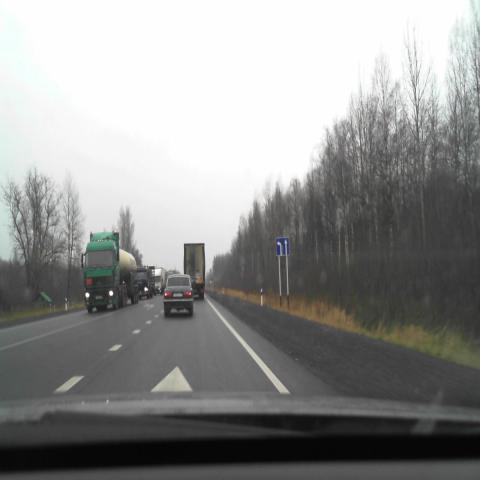5_15_2_2: (275, 237, 290, 256)
